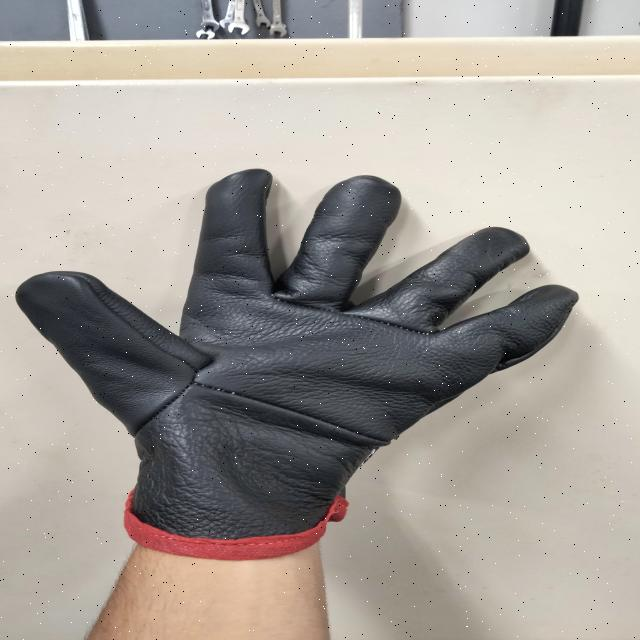Gloves: (11, 165, 566, 546)
